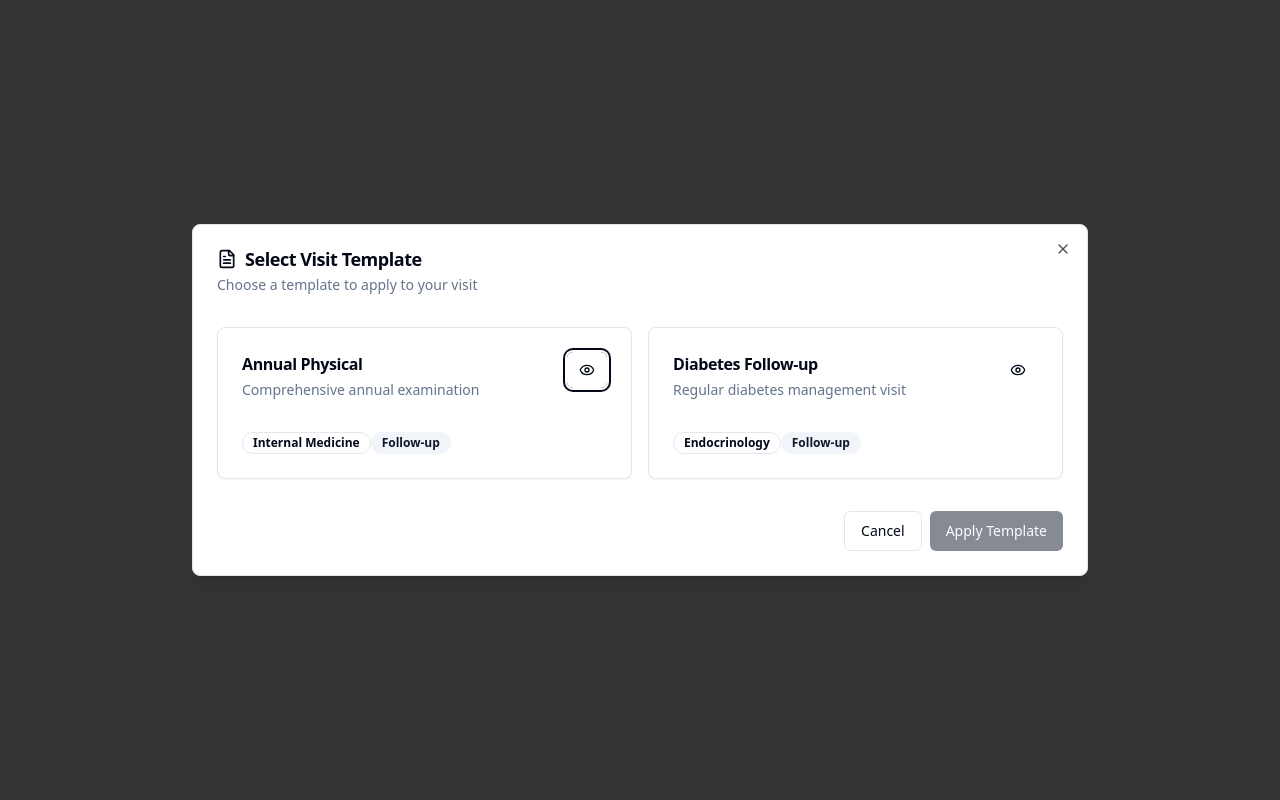
Test case: VisitTemplateSelector › Template Selection › selects template when card is clicked
Note: Click on a template card
Click the heading "Annual Physical" at (302, 364), box [242,353,362,375]
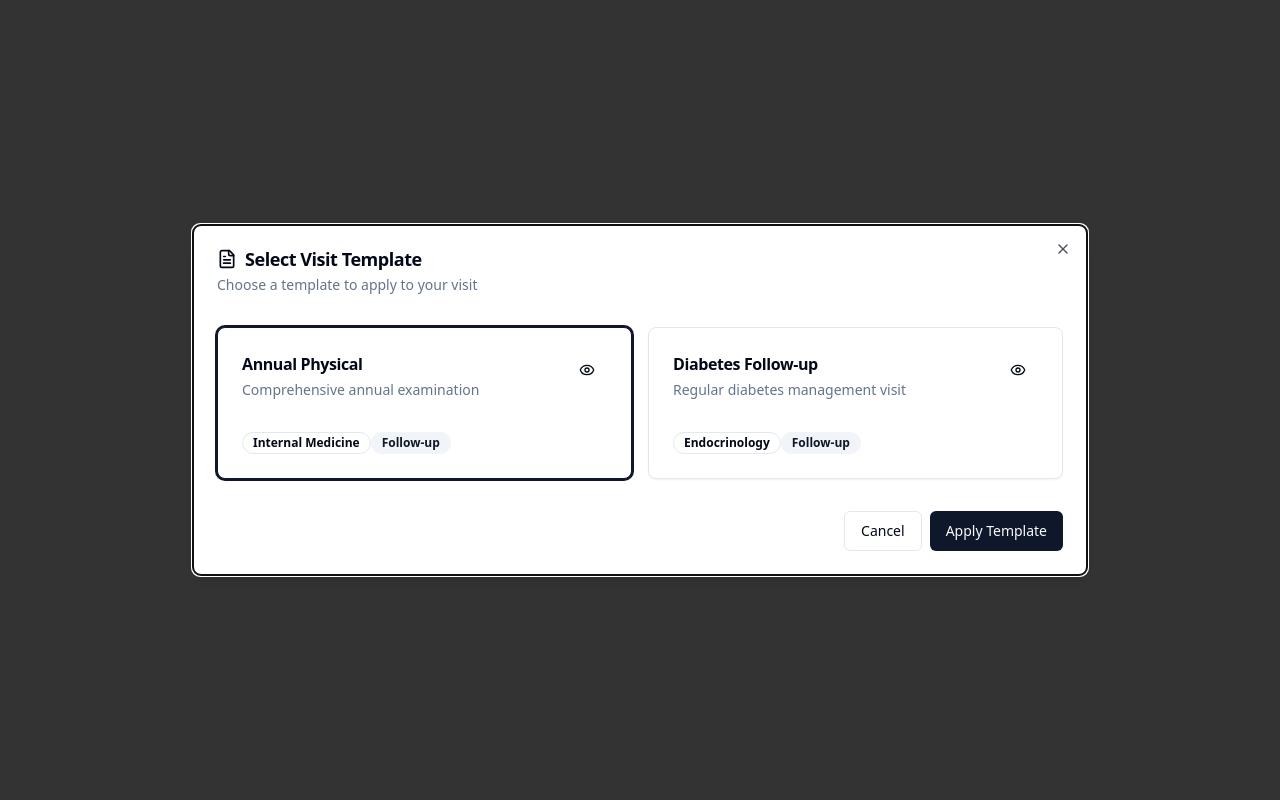
Expected: the button "Apply Template" is enabled, [930,511,1063,551]
